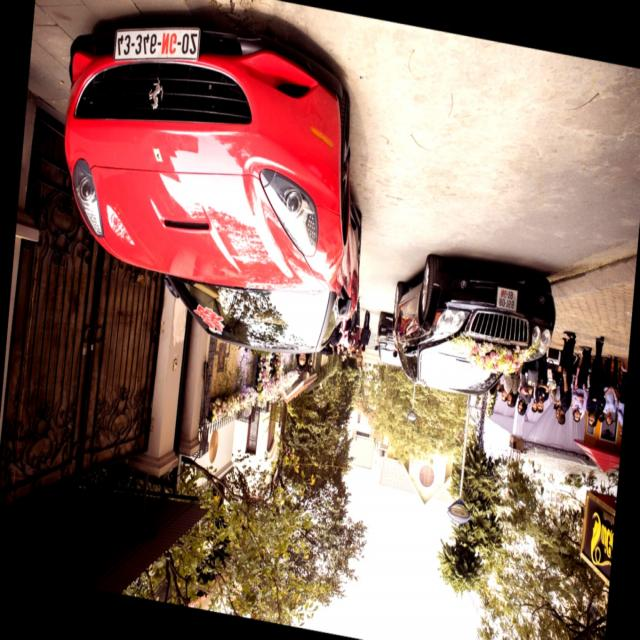bien_ngoai_giao: (107, 27, 202, 65), (490, 281, 520, 316)
